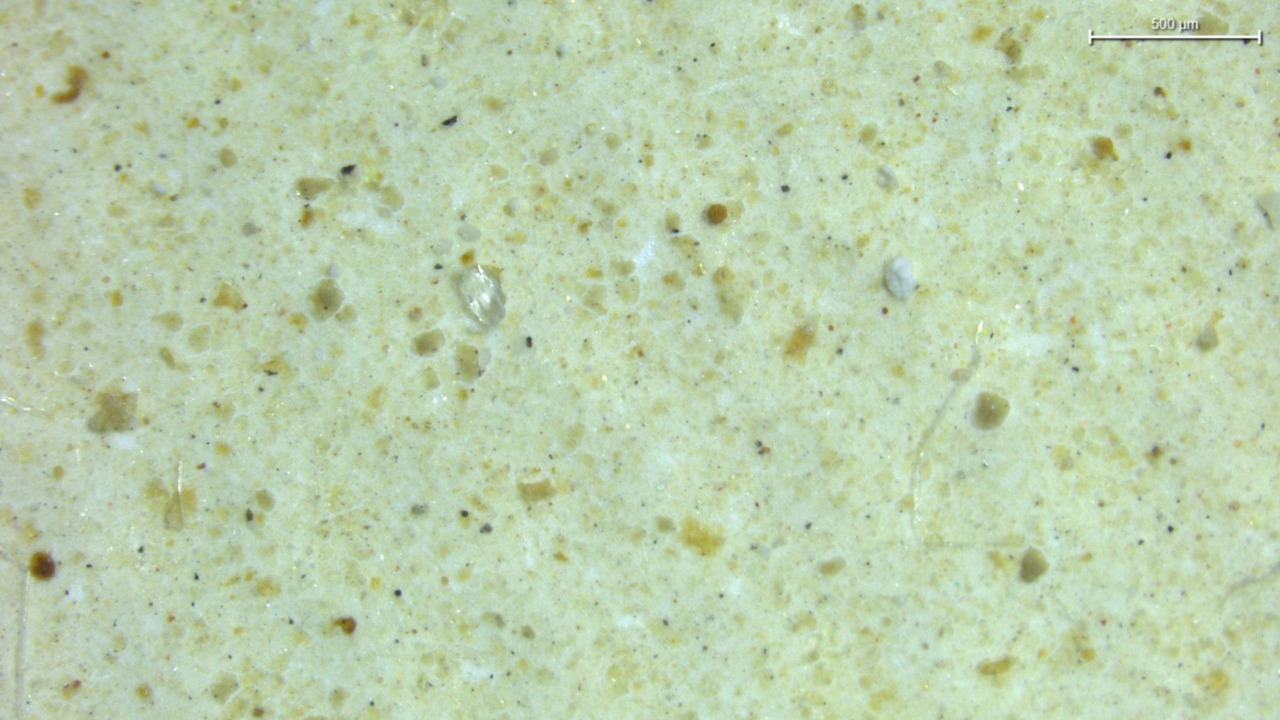microplastic_fragment: (457, 265, 505, 328), (884, 257, 918, 301)
